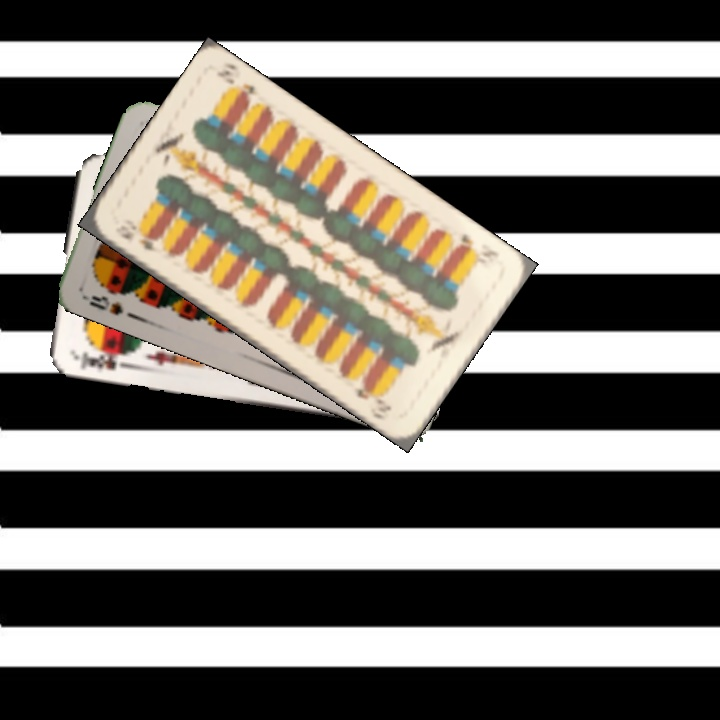E10: (453, 229, 502, 264), (116, 228, 166, 255)
S8: (78, 291, 126, 318)
SK: (70, 345, 130, 374)
